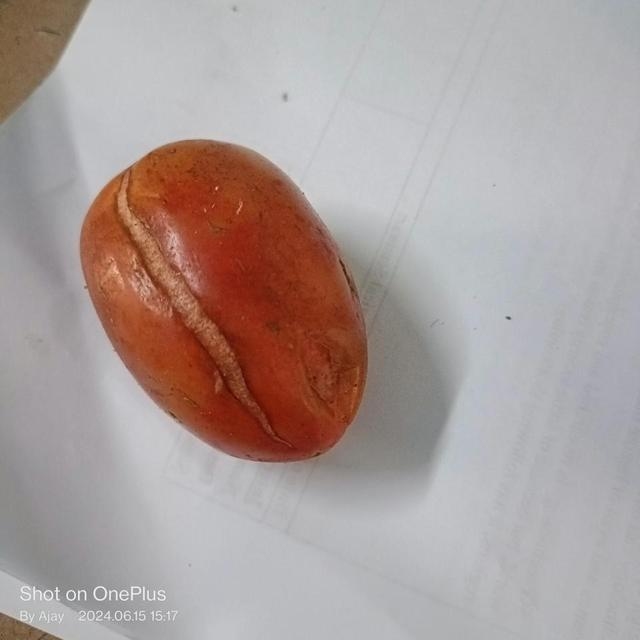Cracking Fruit: (51, 96, 202, 364)
